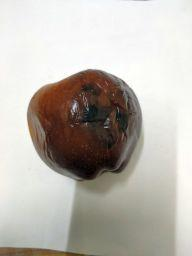Apple Rotten: (13, 64, 157, 187)
